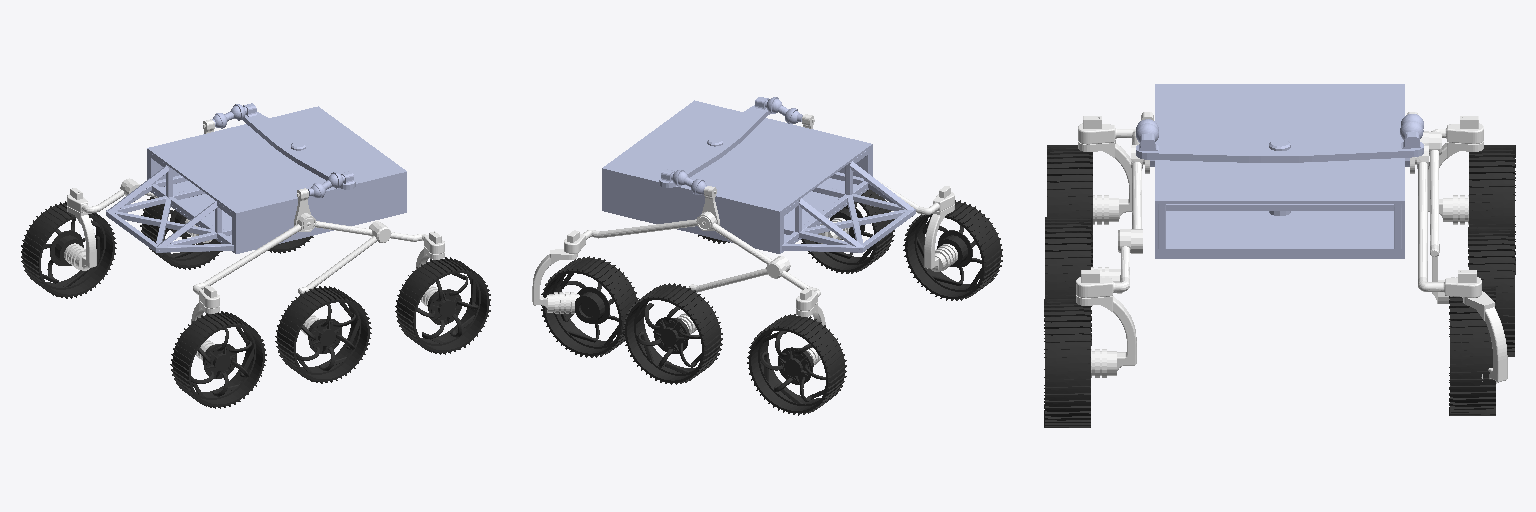
URDF robot description (astroquark):
<?xml version='1.0' encoding='utf-8'?>
<robot name="astroquark">
  <link name="base_link">
    <inertial>
      <origin xyz="0.0798636535099553 -0.0114768262127064 0.00923484988753612" rpy="0 0 0" />
      <mass value="6.43407403537838" />
      <inertia ixx="0.10177883851113" ixy="0.000415898395885515" ixz="-7.62838966533196E-05" iyy="0.138551196921838" iyz="-1.33315196072833E-08" izz="0.237125704590259" />
    </inertial>
    <visual>
      <origin xyz="0 0 0" rpy="0 0 0" />
      <geometry>
        <mesh filename="../simulation/astroquark/meshes/base_link.STL" />
      </geometry>
      <material name="">
        <color rgba="0.792156862745098 0.819607843137255 0.933333333333333 1" />
      </material>
    </visual>
    <collision>
      <origin xyz="0 0 0" rpy="0 0 0" />
      <geometry>
        <mesh filename="../simulation/astroquark/meshes/base_link.STL" />
      </geometry>
    </collision>
  </link>
  <link name="left_rocker">
    <inertial>
      <origin xyz="-0.235344696249873 -0.145857299505986 0.0650431519595321" rpy="0 0 0" />
      <mass value="0.774675013477615" />
      <inertia ixx="0.00187842604261401" ixy="-0.000209463468284945" ixz="0.000178010779704401" iyy="0.0091478496177103" iyz="-7.42616098883103E-05" izz="0.0104621076008466" />
    </inertial>
    <visual>
      <origin xyz="0 0 0" rpy="0 0 0" />
      <geometry>
        <mesh filename="../simulation/astroquark/meshes/left_rocker.STL" />
      </geometry>
      <material name="">
        <color rgba="1 1 1 1" />
      </material>
    </visual>
    <collision>
      <origin xyz="0 0 0" rpy="0 0 0" />
      <geometry>
        <mesh filename="../simulation/astroquark/meshes/left_rocker.STL" />
      </geometry>
    </collision>
  </link>
  <joint name="left_rocker_joint" type="revolute">
    <origin xyz="0.0098391 0.27898 -0.0005697" rpy="1.57080075561 -0.000736428199021 3.14158534559" />
    <parent link="base_link" />
    <child link="left_rocker" />
    <axis xyz="7.30800256314e-06 4.42343270976e-06 0.999999999964" />
    <limit lower="-0.603036428202" upper="0.396963571798" effort="100" velocity="10" />
    <dynamics damping="2" friction="0" />
  </joint>
  <link name="left_front_wheel">
    <inertial>
      <origin xyz="-1.96242260247503E-07 -9.44830066962332E-08 -0.0355971468427495" rpy="0 0 0" />
      <mass value="1.61075943710073" />
      <inertia ixx="0.00839724125749004" ixy="-1.47464684510743E-08" ixz="-4.29427497684529E-10" iyy="0.00839726182035625" iyz="-2.08073759177391E-10" izz="0.0154164687052003" />
    </inertial>
    <visual>
      <origin xyz="0 0 0" rpy="0 0 0" />
      <geometry>
        <mesh filename="../simulation/astroquark/meshes/left_front_wheel.STL" />
      </geometry>
      <material name="">
        <color rgba="0.250980392156863 0.250980392156863 0.250980392156863 1" />
      </material>
    </visual>
    <collision>
      <origin xyz="0 0 -0.03877671808" rpy="0 0 0" />
      <geometry>
        <cylinder radius="0.131935968995" length="0.0946809053421" />
      </geometry>
    </collision>
  </link>
  <joint name="left_front_wheel_joint" type="continuous">
    <origin xyz="-0.31011 -0.29105 0.062847" rpy="3.14158640179 5.82139912086e-06 -0.276734837554" />
    <parent link="left_rocker" />
    <child link="left_front_wheel" />
    <axis xyz="0 0 -1" />
  </joint>
  <link name="left_bogie">
    <inertial>
      <origin xyz="-0.0120550475764211 -0.141763693350102 0.06427835990825" rpy="0 0 0" />
      <mass value="0.853240520794269" />
      <inertia ixx="0.00626533755099252" ixy="-0.00667160211572711" ixz="0.000257707832435231" iyy="0.0152407015754412" iyz="0.000754714757062369" izz="0.019393594116416" />
    </inertial>
    <visual>
      <origin xyz="0 0 0" rpy="0 0 0" />
      <geometry>
        <mesh filename="../simulation/astroquark/meshes/left_bogie.STL" />
      </geometry>
      <material name="">
        <color rgba="1 1 1 1" />
      </material>
    </visual>
    <collision>
      <origin xyz="0 0 0" rpy="0 0 0" />
      <geometry>
        <mesh filename="../simulation/astroquark/meshes/left_bogie.STL" />
      </geometry>
    </collision>
  </link>
  <joint name="left_bogie_joint" type="revolute">
    <origin xyz="0.235 -0.08 0.0011698" rpy="1.92605819908e-06 1.60388668853e-06 -0.00284974046933" />
    <parent link="left_rocker" />
    <child link="left_bogie" />
    <axis xyz="5.69148058231e-06 6.37029882986e-06 0.999999999964" />
    <limit lower="-0.79447025954" upper="0.20552974046" effort="100" velocity="10" />
    <dynamics damping="2" friction="0" />
  </joint>
  <link name="left_mid_wheel">
    <inertial>
      <origin xyz="1.98927141731309E-07 3.07749845745997E-07 0.0505264120424301" rpy="0 0 0" />
      <mass value="1.61075897434689" />
      <inertia ixx="0.00839724345932326" ixy="9.58029442918711E-09" ixz="4.37980242869923E-10" iyy="0.00839725837153412" iyz="6.50208456763026E-10" izz="0.0154164672983927" />
    </inertial>
    <visual>
      <origin xyz="0 0 0" rpy="0 0 0" />
      <geometry>
        <mesh filename="../simulation/astroquark/meshes/left_mid_wheel.STL" />
      </geometry>
      <material name="">
        <color rgba="0.250980392156863 0.250980392156863 0.250980392156863 1" />
      </material>
    </visual>
    <collision>
      <origin xyz="0 0 0.0473411679268" rpy="0 0 0" />
      <geometry>
        <cylinder radius="0.131935968995" length="0.0946809053421" />
      </geometry>
    </collision>
  </link>
  <joint name="left_mid_wheel_joint" type="continuous">
    <origin xyz="-0.260000000000001 -0.211999999999998 0.0914890421315087" rpy="-8.29874295074e-06 -2.0259624478e-06 -0.968624290118" />
    <parent link="left_bogie" />
    <child link="left_mid_wheel" />
    <axis xyz="0 0 1" />
  </joint>
  <link name="left_rear_wheel">
    <inertial>
      <origin xyz="1.58323640864211E-08 2.03275555332727E-07 0.0513923743752575" rpy="0 0 0" />
      <mass value="1.6107504301174" />
      <inertia ixx="0.00839720543630145" ixy="-1.62991746495325E-09" ixz="3.85417823924158E-11" iyy="0.00839723557474451" iyz="4.26774309403303E-10" izz="0.0154164064466512" />
    </inertial>
    <visual>
      <origin xyz="0 0 0" rpy="0 0 0" />
      <geometry>
        <mesh filename="../simulation/astroquark/meshes/left_rear_wheel.STL" />
      </geometry>
      <material name="">
        <color rgba="0.250980392156863 0.250980392156863 0.250980392156863 1" />
      </material>
    </visual>
    <collision>
      <origin xyz="0 0 0.0482077524066" rpy="0 0 0" />
      <geometry>
        <cylinder radius="0.131935968995" length="0.0946809053421" />
      </geometry>
    </collision>
  </link>
  <joint name="left_rear_wheel_joint" type="continuous">
    <origin xyz="0.134968263561127 -0.211165272841397 0.0918565882051411" rpy="7.5944087885e-06 -3.91134421341e-06 2.8880123887" />
    <parent link="left_bogie" />
    <child link="left_rear_wheel" />
    <axis xyz="0 0 1" />
  </joint>
  <link name="right_rocker">
    <inertial>
      <origin xyz="-0.221674282736913 -0.145857453912794 0.0390511454671602" rpy="0 0 0" />
      <mass value="0.774673307976729" />
      <inertia ixx="0.00214046624234136" ixy="-0.000320257584523312" ixz="2.80999494874507E-06" iyy="0.00914786176515646" iyz="0.000126035156518177" izz="0.0102000774122569" />
    </inertial>
    <visual>
      <origin xyz="0 0 0" rpy="0 0 0" />
      <geometry>
        <mesh filename="../simulation/astroquark/meshes/right_rocker.STL" />
      </geometry>
      <material name="">
        <color rgba="1 1 1 1" />
      </material>
    </visual>
    <collision>
      <origin xyz="0 0 0" rpy="0 0 0" />
      <geometry>
        <mesh filename="../simulation/astroquark/meshes/right_rocker.STL" />
      </geometry>
    </collision>
  </link>
  <joint name="right_rocker_joint" type="revolute">
    <origin xyz="0.0098391 -0.3019 -0.0005747" rpy="1.5708 -0.000660933096227 0" />
    <parent link="base_link" />
    <child link="right_rocker" />
    <axis xyz="0 3.67320510342e-06 0.999999999993" />
    <limit lower="-0.557672933096" upper="0.442327066904" effort="100" velocity="10" />
    <dynamics damping="2" friction="0" />
  </joint>
  <link name="right_front_wheel">
    <inertial>
      <origin xyz="2.51138272955309E-08 2.15434605044251E-07 0.0506393526265455" rpy="0 0 0" />
      <mass value="1.61075076582923" />
      <inertia ixx="0.00839720627989655" ixy="-2.36185608991888E-09" ixz="4.96828496095517E-10" iyy="0.00839723727462991" iyz="1.02884228380504E-11" izz="0.015416409200461" />
    </inertial>
    <visual>
      <origin xyz="0 0 0" rpy="0 0 0" />
      <geometry>
        <mesh filename="../simulation/astroquark/meshes/right_front_wheel.STL" />
      </geometry>
      <material name="">
        <color rgba="0.250980392156863 0.250980392156863 0.250980392156863 1" />
      </material>
    </visual>
    <collision>
      <origin xyz="0 0 0.0474540963769" rpy="0 0 0" />
      <geometry>
        <cylinder radius="0.131935968995" length="0.0946809053421" />
      </geometry>
    </collision>
  </link>
  <joint name="right_front_wheel_joint" type="continuous">
    <origin xyz="-0.37025 -0.29105 0.089143" rpy="3.58722941512e-06 -7.90076486887e-07 -2.92480677173" />
    <parent link="right_rocker" />
    <child link="right_front_wheel" />
    <axis xyz="0 0 -1" />
  </joint>
  <link name="right_bogie">
    <inertial>
      <origin xyz="-0.0120256186532656 -0.141763702724175 0.0642202718096743" rpy="0 0 0" />
      <mass value="0.853240740573145" />
      <inertia ixx="0.00626534031863578" ixy="-0.00667185550068293" ixz="0.000258457534373196" iyy="0.0152407022892434" iyz="0.000754711117303428" izz="0.0193935912602559" />
    </inertial>
    <visual>
      <origin xyz="0 0 0" rpy="0 0 0" />
      <geometry>
        <mesh filename="../simulation/astroquark/meshes/right_bogie.STL" />
      </geometry>
      <material name="">
        <color rgba="1 1 1 1" />
      </material>
    </visual>
    <collision>
      <origin xyz="0 0 0" rpy="0 0 0" />
      <geometry>
        <mesh filename="../simulation/astroquark/meshes/right_bogie.STL" />
      </geometry>
    </collision>
  </link>
  <joint name="right_bogie_joint" type="revolute">
    <origin xyz="0.235 -0.08 0.0012276" rpy="-5.99907139467e-08 6.51035502255e-07 -0.00277424852927" />
    <parent link="right_rocker" />
    <child link="right_bogie" />
    <axis xyz="-6.61225873035e-07 3.61320025415e-06 0.999999999993" />
    <limit lower="-0.678225751472" upper="0.321774248528" effort="100" velocity="10" />
    <dynamics damping="2" friction="0" />
  </joint>
  <link name="right_mid_wheel">
    <inertial>
      <origin xyz="3.86933780294196E-07 1.76966346049356E-07 0.0505257842856727" rpy="0 0 0" />
      <mass value="1.61075494295253" />
      <inertia ixx="0.00839723433982591" ixy="-2.99225978109968E-09" ixz="8.40133882598706E-10" iyy="0.00839723824188238" iyz="3.45032845825033E-10" izz="0.0154164380093169" />
    </inertial>
    <visual>
      <origin xyz="0 0 0" rpy="0 0 0" />
      <geometry>
        <mesh filename="../simulation/astroquark/meshes/right_mid_wheel.STL" />
      </geometry>
      <material name="">
        <color rgba="0.250980392156863 0.250980392156863 0.250980392156863 1" />
      </material>
    </visual>
    <collision>
      <origin xyz="0 0 0.0473411679268" rpy="0 0 0" />
      <geometry>
        <cylinder radius="0.131935968995" length="0.0946809053421" />
      </geometry>
    </collision>
  </link>
  <joint name="right_mid_wheel_joint" type="continuous">
    <origin xyz="-0.259999999999971 -0.211999999999778 0.0914312137195059" rpy="-2.21789025238e-06 -2.92803663915e-06 -0.741533631317" />
    <parent link="right_bogie" />
    <child link="right_mid_wheel" />
    <axis xyz="0 0 -1" />
  </joint>
  <link name="right_rear_wheel">
    <inertial>
      <origin xyz="-1.7063906482262E-07 1.14313293664292E-07 0.0505768563424628" rpy="0 0 0" />
      <mass value="1.61075441299494" />
      <inertia ixx="0.00839721136169701" ixy="-1.22989800609361E-08" ixz="-3.48336167601667E-10" iyy="0.00839725852473709" iyz="2.46589100582443E-10" izz="0.0154164353186415" />
    </inertial>
    <visual>
      <origin xyz="0 0 0" rpy="0 0 0" />
      <geometry>
        <mesh filename="../simulation/astroquark/meshes/right_rear_wheel.STL" />
      </geometry>
      <material name="">
        <color rgba="0.250980392156863 0.250980392156863 0.250980392156863 1" />
      </material>
    </visual>
    <collision>
      <origin xyz="0 0 0.0473909750581" rpy="0 0 0" />
      <geometry>
        <cylinder radius="0.131935968995" length="0.0946809053421" />
      </geometry>
    </collision>
  </link>
  <joint name="right_rear_wheel_joint" type="continuous">
    <origin xyz="0.134997285729815 -0.211165272841178 0.0926148929013204" rpy="-3.66573607711e-08 3.67302218476e-06 1.74181649495" />
    <parent link="right_bogie" />
    <child link="right_rear_wheel" />
    <axis xyz="0 0 -1" />
  </joint>
</robot>

--- Render facts (derived) ---
Views: 3 orthographic renders of the robot side by side, from view 1: azimuth 30°, elevation 25°; view 2: azimuth 150°, elevation 25°; view 3: azimuth 270°, elevation 25°.
Robot: astroquark — 11 links, 10 joints (4 revolute, 6 continuous); root link base_link; default pose: every joint at zero.
Links seen in each view (by area): view 1: base_link, right_mid_wheel, right_front_wheel, right_rear_wheel, left_rear_wheel, right_rocker, right_bogie, left_bogie, left_mid_wheel; view 2: base_link, left_mid_wheel, left_rear_wheel, left_front_wheel, right_front_wheel, left_rocker, right_mid_wheel, right_rocker, left_bogie; view 3: base_link, right_rear_wheel, left_front_wheel, left_rocker, right_rocker, left_bogie, right_bogie, left_rear_wheel, left_mid_wheel, right_mid_wheel, right_front_wheel.
Link boxes in pixels (x1,y1,x2,y2): base_link: (106, 103, 406, 253); right_mid_wheel: (275, 286, 371, 383); right_front_wheel: (170, 311, 266, 408); right_rear_wheel: (395, 257, 490, 354); left_rear_wheel: (21, 201, 116, 298); right_rocker: (191, 188, 383, 360); right_bogie: (298, 224, 444, 335); left_bogie: (64, 178, 211, 270); left_mid_wheel: (140, 197, 222, 269); base_link: (602, 97, 915, 253); left_mid_wheel: (623, 283, 722, 384); left_rear_wheel: (747, 314, 846, 415); left_front_wheel: (541, 256, 638, 357); right_front_wheel: (903, 200, 1002, 300); left_rocker: (532, 186, 790, 313); right_mid_wheel: (801, 189, 894, 273); right_rocker: (802, 114, 957, 271); left_bogie: (677, 259, 825, 364); base_link: (1136, 84, 1423, 258); right_rear_wheel: (1044, 299, 1090, 427); left_front_wheel: (1449, 286, 1495, 415); left_rocker: (1407, 112, 1507, 383); right_rocker: (1078, 112, 1153, 253); left_bogie: (1428, 116, 1483, 303); right_bogie: (1076, 229, 1136, 377); left_rear_wheel: (1469, 145, 1515, 274); left_mid_wheel: (1468, 227, 1514, 356); right_mid_wheel: (1045, 217, 1091, 345); right_front_wheel: (1047, 145, 1092, 266).
Size in the robot's own frame: 1 by 0.958 by 0.5477 metres.
Meshes: 11 distinct files referenced, 11 mesh visuals loaded (11 binary STL).
